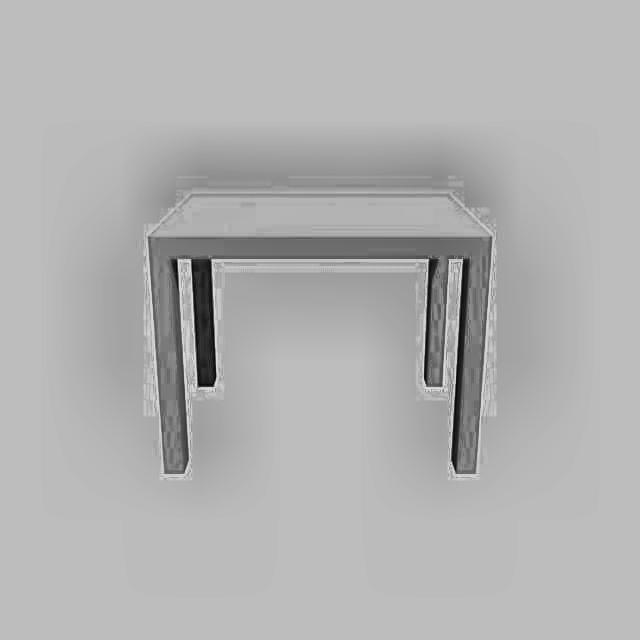mesa: (149, 190, 498, 478)
